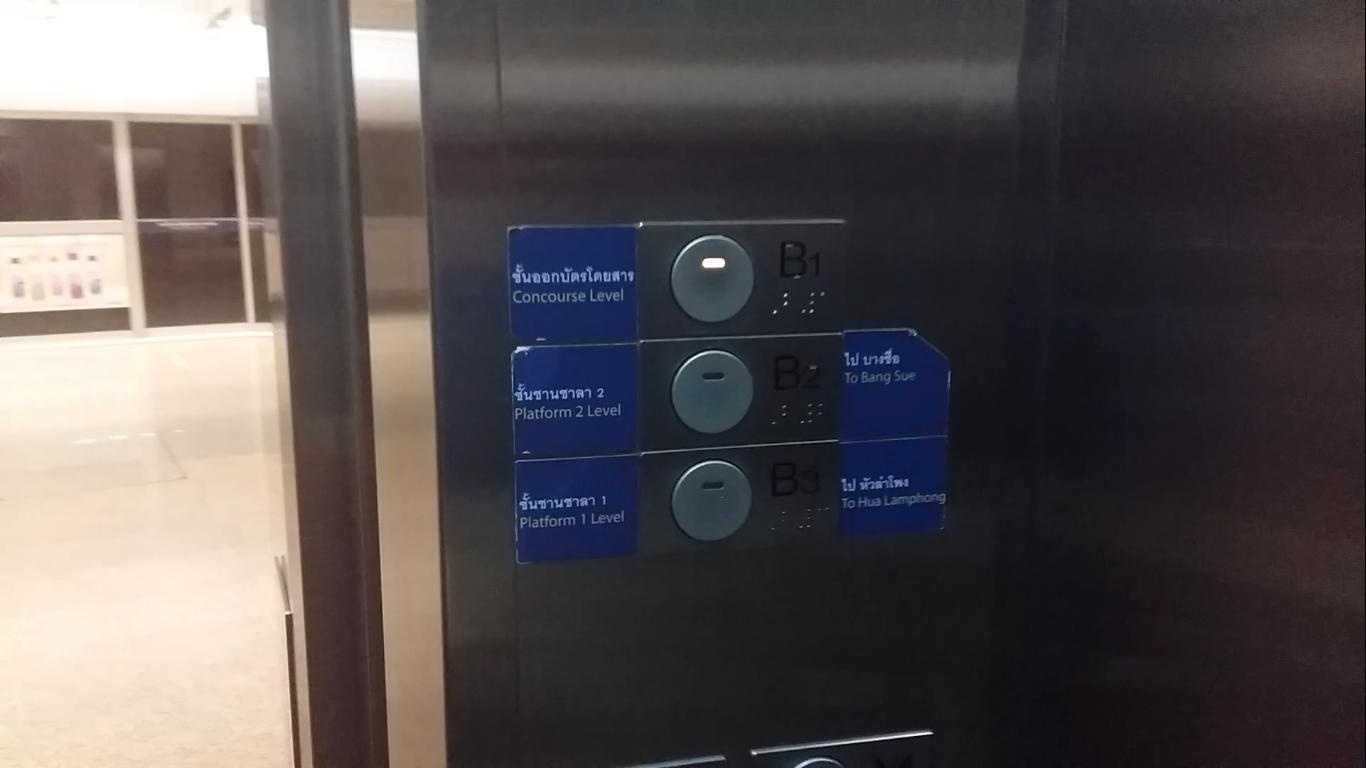B1: (634, 215, 866, 340)
B2: (634, 334, 855, 454)
B3: (631, 436, 852, 554)
